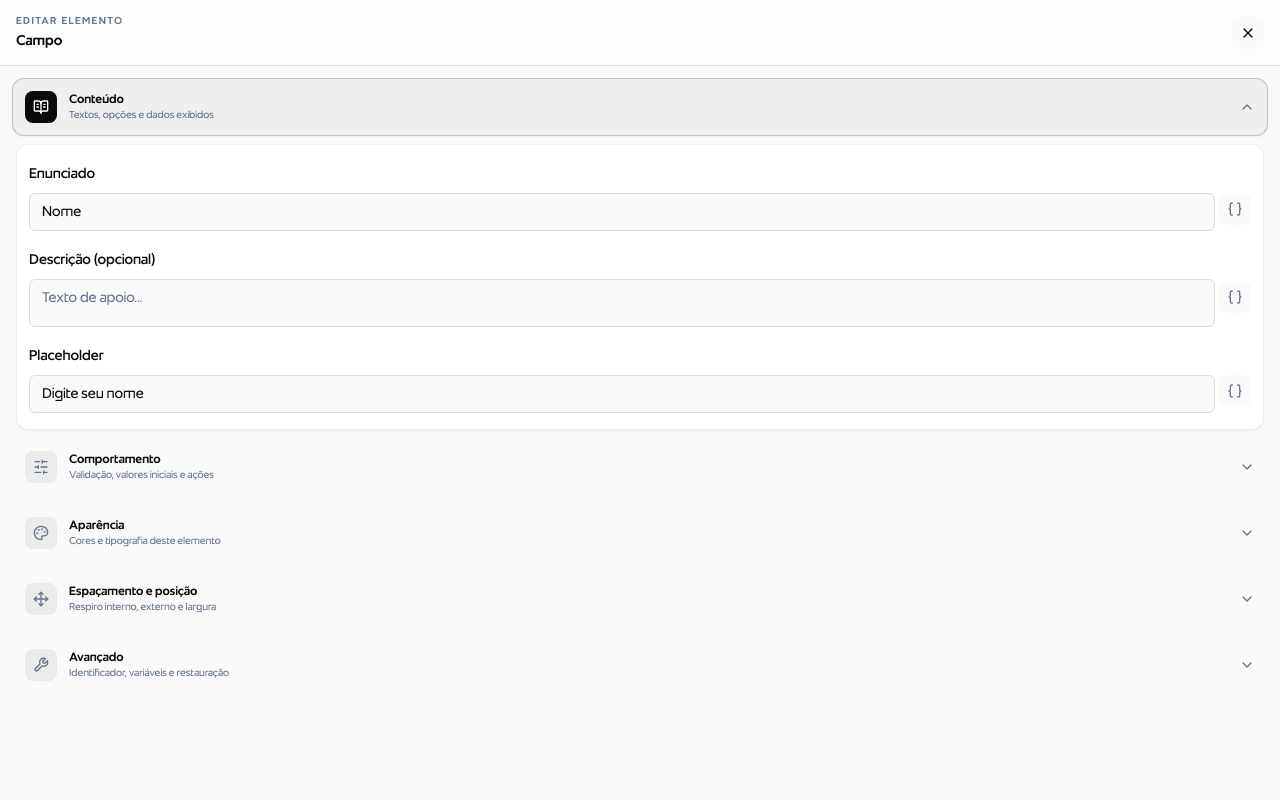
Test: ElementSettingsPanel prefill integration › usa o mesmo editor para input_text
The image size is (1280, 800).
Click the button "Comportamento Validação, valores iniciais e ações". click: (41, 467)
box: left=12, top=438, right=1268, bottom=496
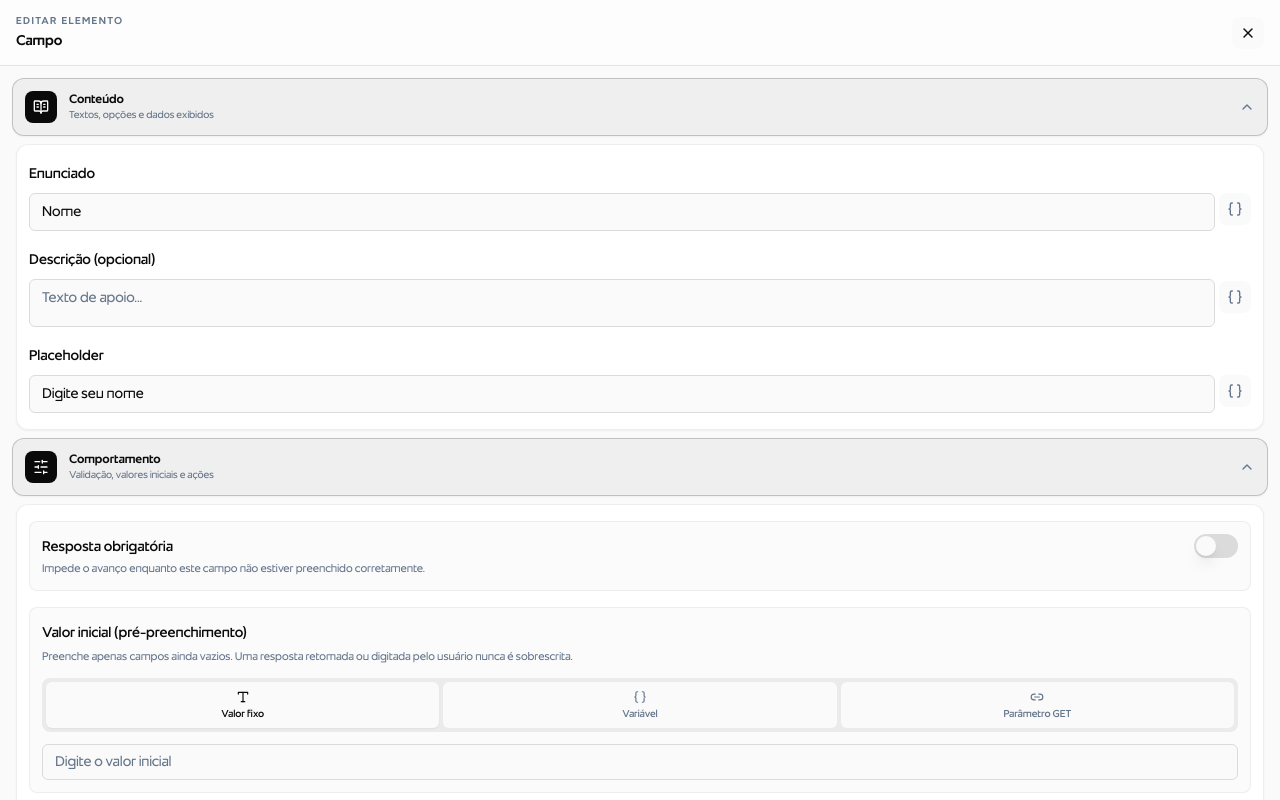
Expected: the text "Valor inicial (pré-preenchimento)" is shown, left=42, top=626, right=247, bottom=640
